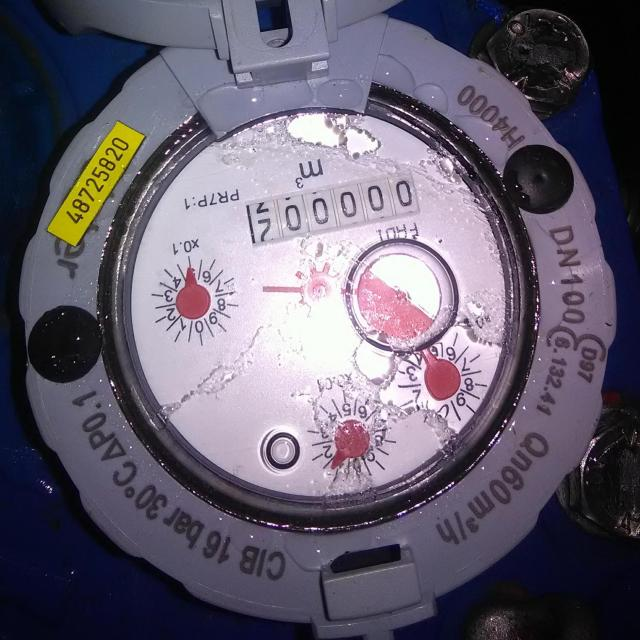gaz_meter: (112, 108, 531, 527)
indication: (240, 168, 425, 254)
